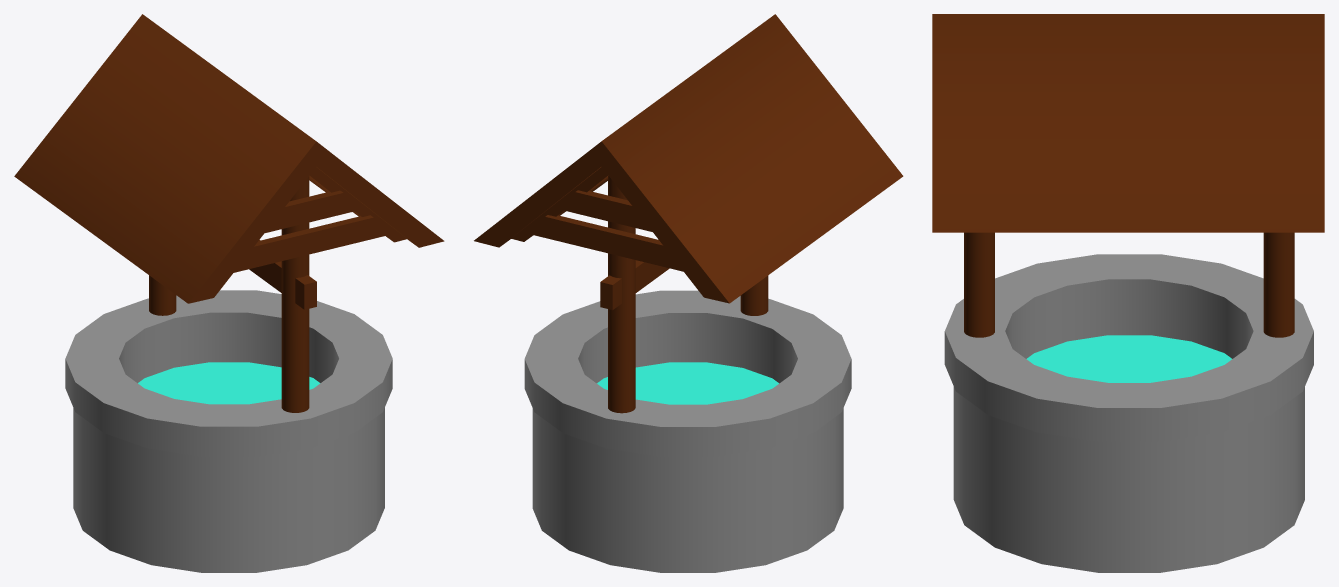
The model's file is PozoMSv3 1.fbx.
The picture shows the model from 3 angles, left to right: view 1: azimuth 30°, elevation 25°; view 2: azimuth 150°, elevation 25°; view 3: azimuth 270°, elevation 25°; orthographic projection. The views are drawn at different scales.
Parts seen in each view (by area): view 1: Tube001; view 2: Tube001; view 3: Tube001.
Boxes of the visible parts, <box> form: Tube001: <box>14,14,444,572</box>; Tube001: <box>474,14,903,572</box>; Tube001: <box>932,14,1324,572</box>.
Bounding box in the file's own units: 33.43 × 49.29 × 36.1.
